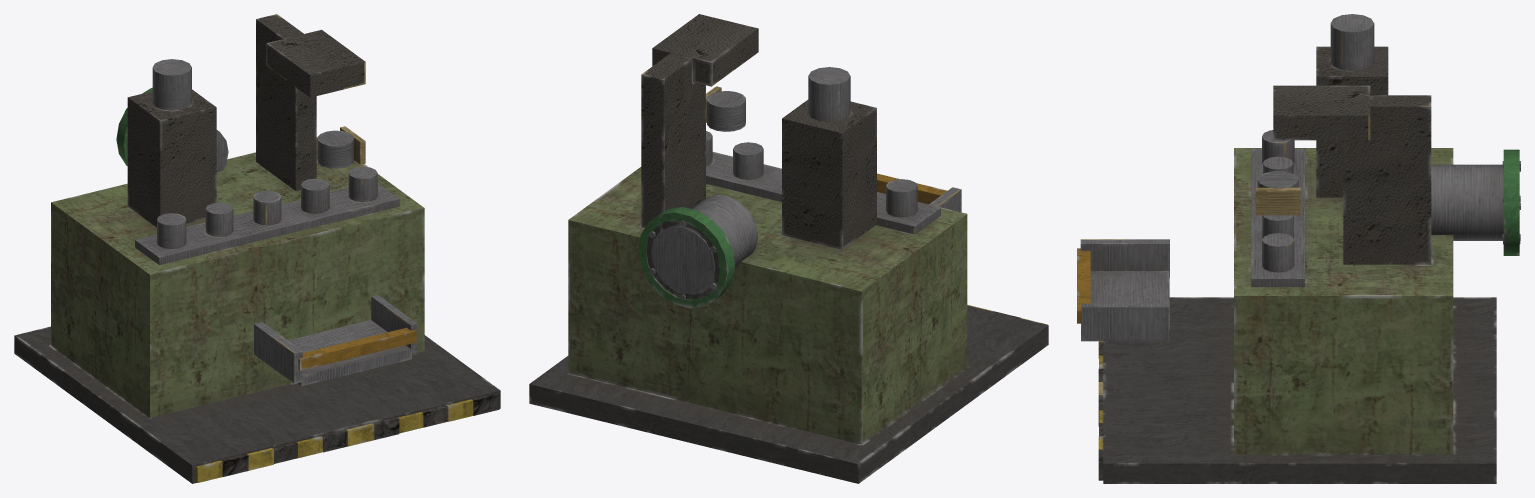
Rendered from feCanner_HD.fbx.
3 views of the same model, side by side, from view 1: azimuth 30°, elevation 25°; view 2: azimuth 150°, elevation 25°; view 3: azimuth 270°, elevation 25° (orthographic). The views are drawn at different scales.
Visible parts, largest first — view 1: feCanner_Base, FeWorkSpin_x3_Seamer; view 2: feCanner_Base, FeWorkSpin_x3_Seamer; view 3: feCanner_Base, FeWorkSpin_x3_Seamer.
Boxes of the visible parts, x1,y1,x2,y2 form: feCanner_Base: [14, 14, 500, 483]; FeWorkSpin_x3_Seamer: [317, 126, 365, 168]; feCanner_Base: [529, 14, 1048, 483]; FeWorkSpin_x3_Seamer: [706, 86, 745, 131]; feCanner_Base: [1077, 14, 1520, 483]; FeWorkSpin_x3_Seamer: [1255, 171, 1300, 215].
Size of the model in its own units: 0.9012 by 0.8706 by 1.02.
Materials: 1 (1 with a texture image).
